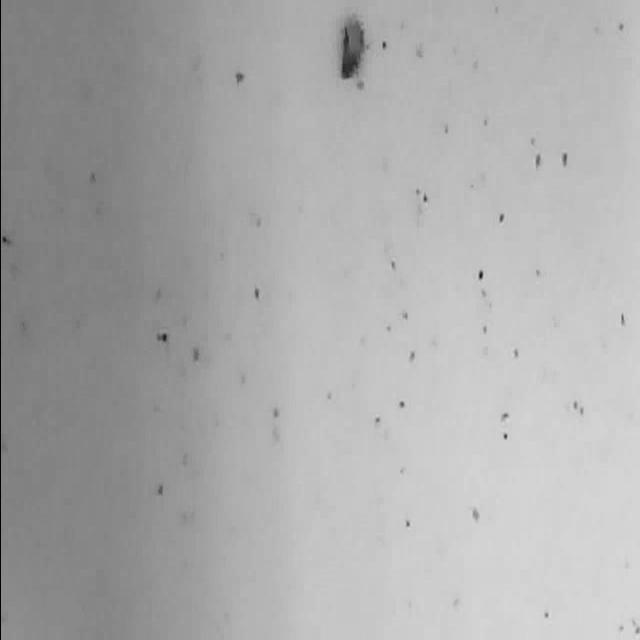larvas: (339, 12, 367, 78)
